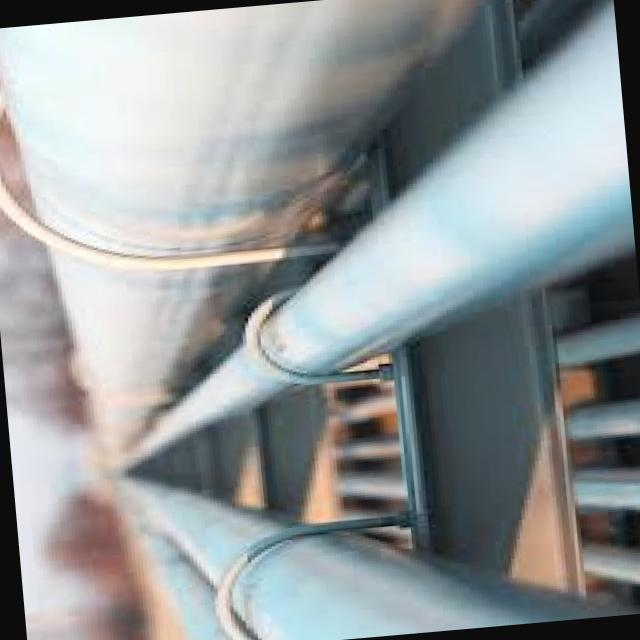gas: (259, 3, 632, 372), (0, 0, 480, 253), (52, 251, 277, 450), (233, 532, 640, 640), (128, 346, 289, 460), (123, 483, 281, 583)
